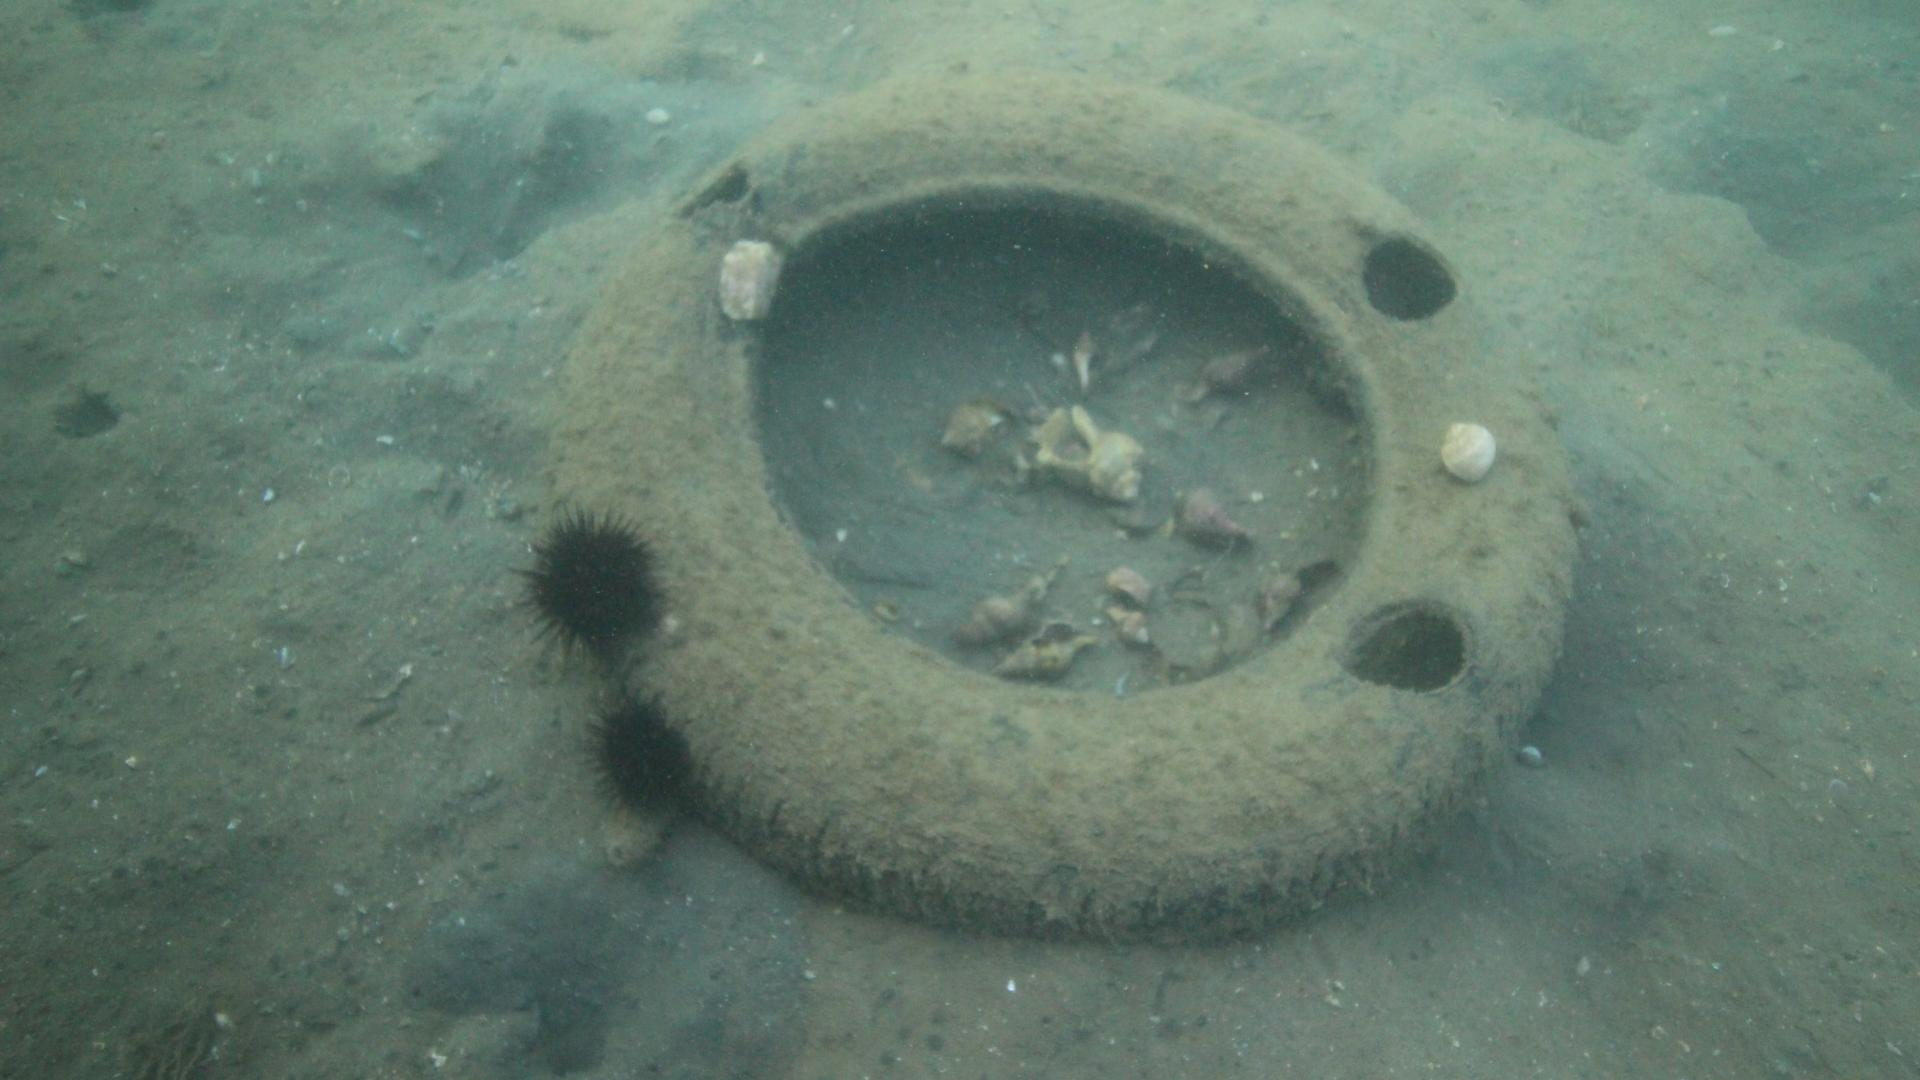tire: (549, 65, 1580, 947)
